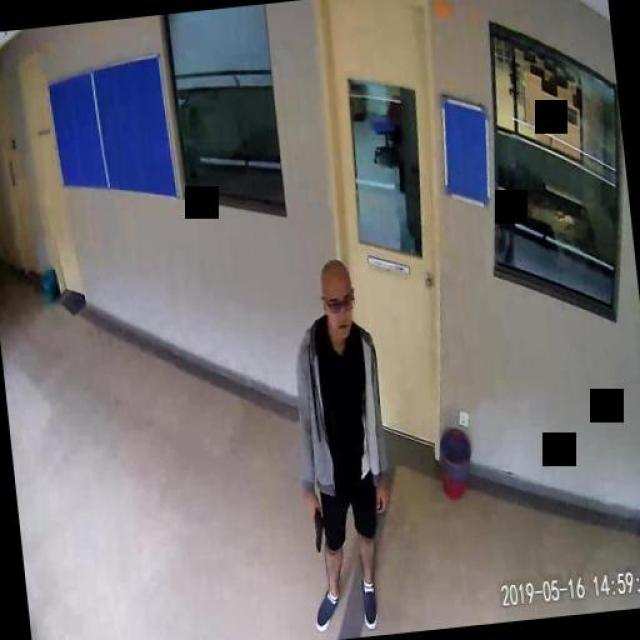gun: (305, 501, 324, 551)
